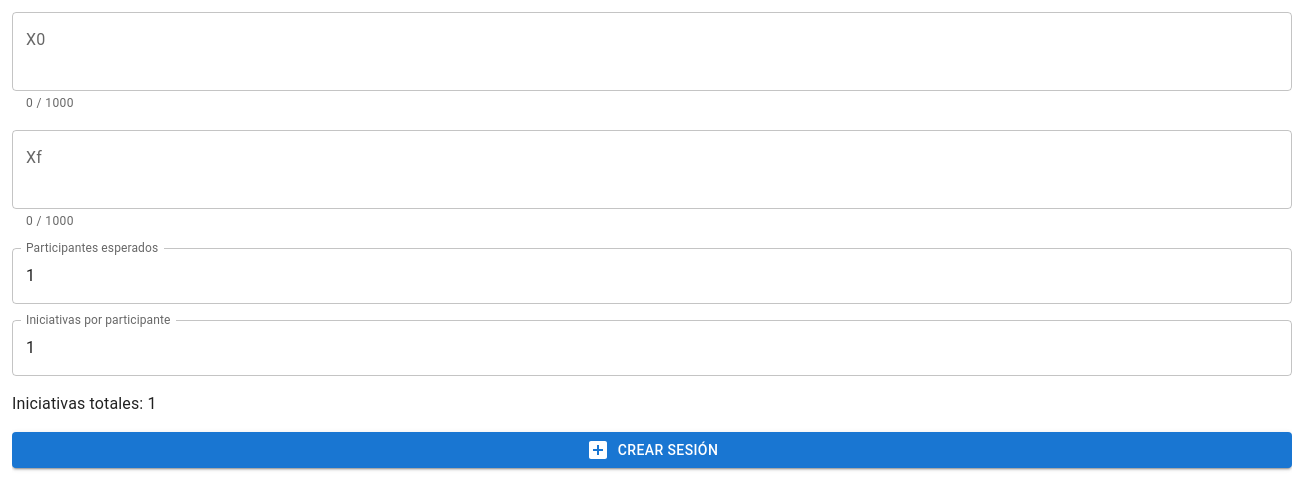
Test case: formulario de configuración › muestra el contador de caracteres de X0 y Xf
This screenshot has width=1304, height=488.
Type "abc" into the text box labelled "X0".
click(652, 52); type("abc")  # box [26,28,1278,74]
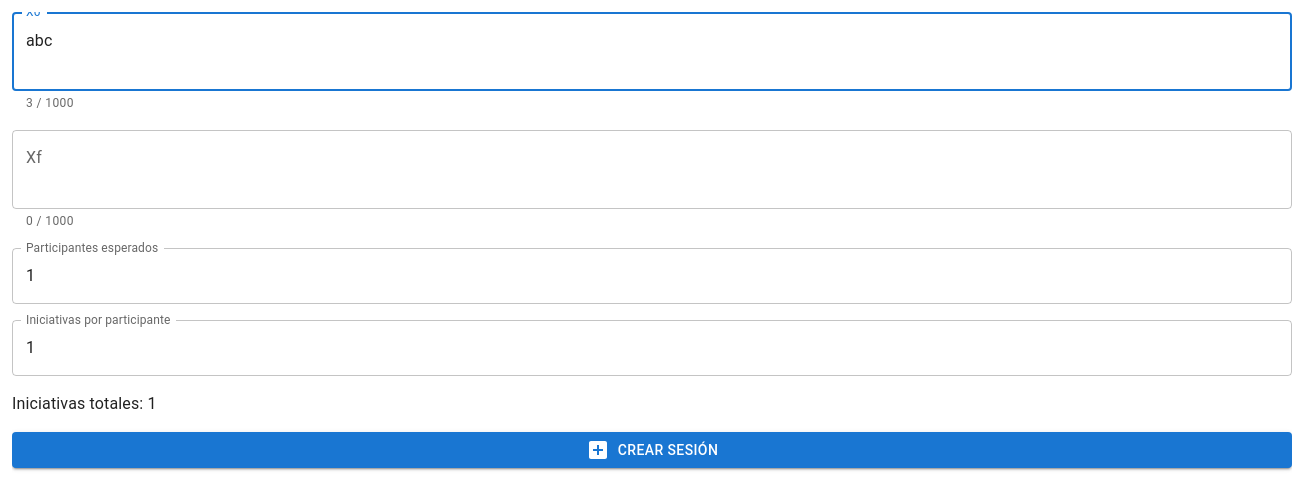
Type "de" into the text box labelled "Xf".
click(652, 169); type("de")  # box [26,146,1278,192]
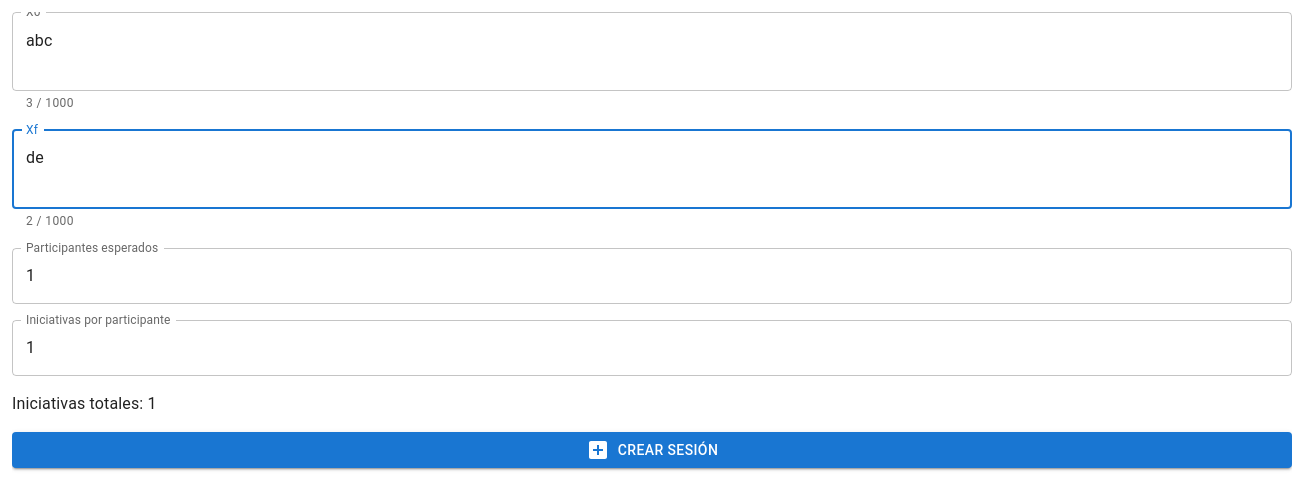
Expected: the text "3 / 1000" is shown, [26,96,74,110]
Expected: the text "2 / 1000" is shown, [26,214,74,228]
